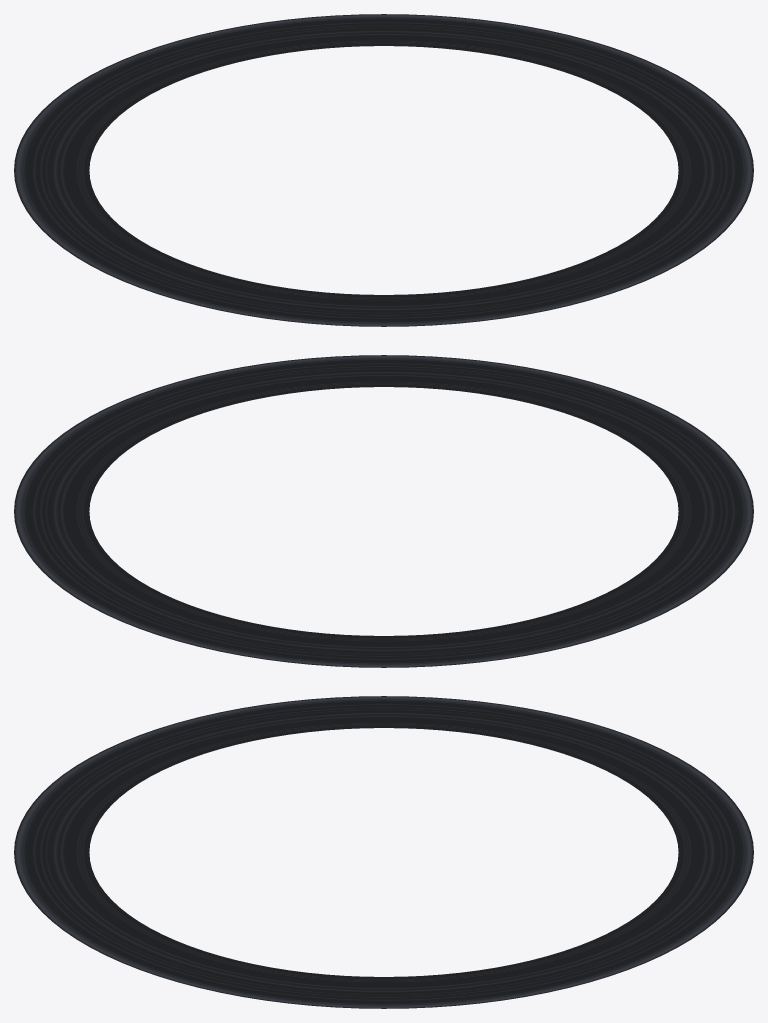
Rendered from uranus_rings.glb.
3 views of the same model, one above another, from view 1: azimuth 30°, elevation 25°; view 2: azimuth 150°, elevation 25°; view 3: azimuth 270°, elevation 25° (orthographic).
Visible parts, largest first — view 1: uranus_rings; view 2: uranus_rings; view 3: uranus_rings.
Part boxes in pixels (x1,y1,x2,y2): uranus_rings: (14,14,753,326); uranus_rings: (14,355,753,667); uranus_rings: (14,696,753,1008).
Bounding box in the file's own units: 4.02 × 0 × 4.02.
1 material, 1 textured.
